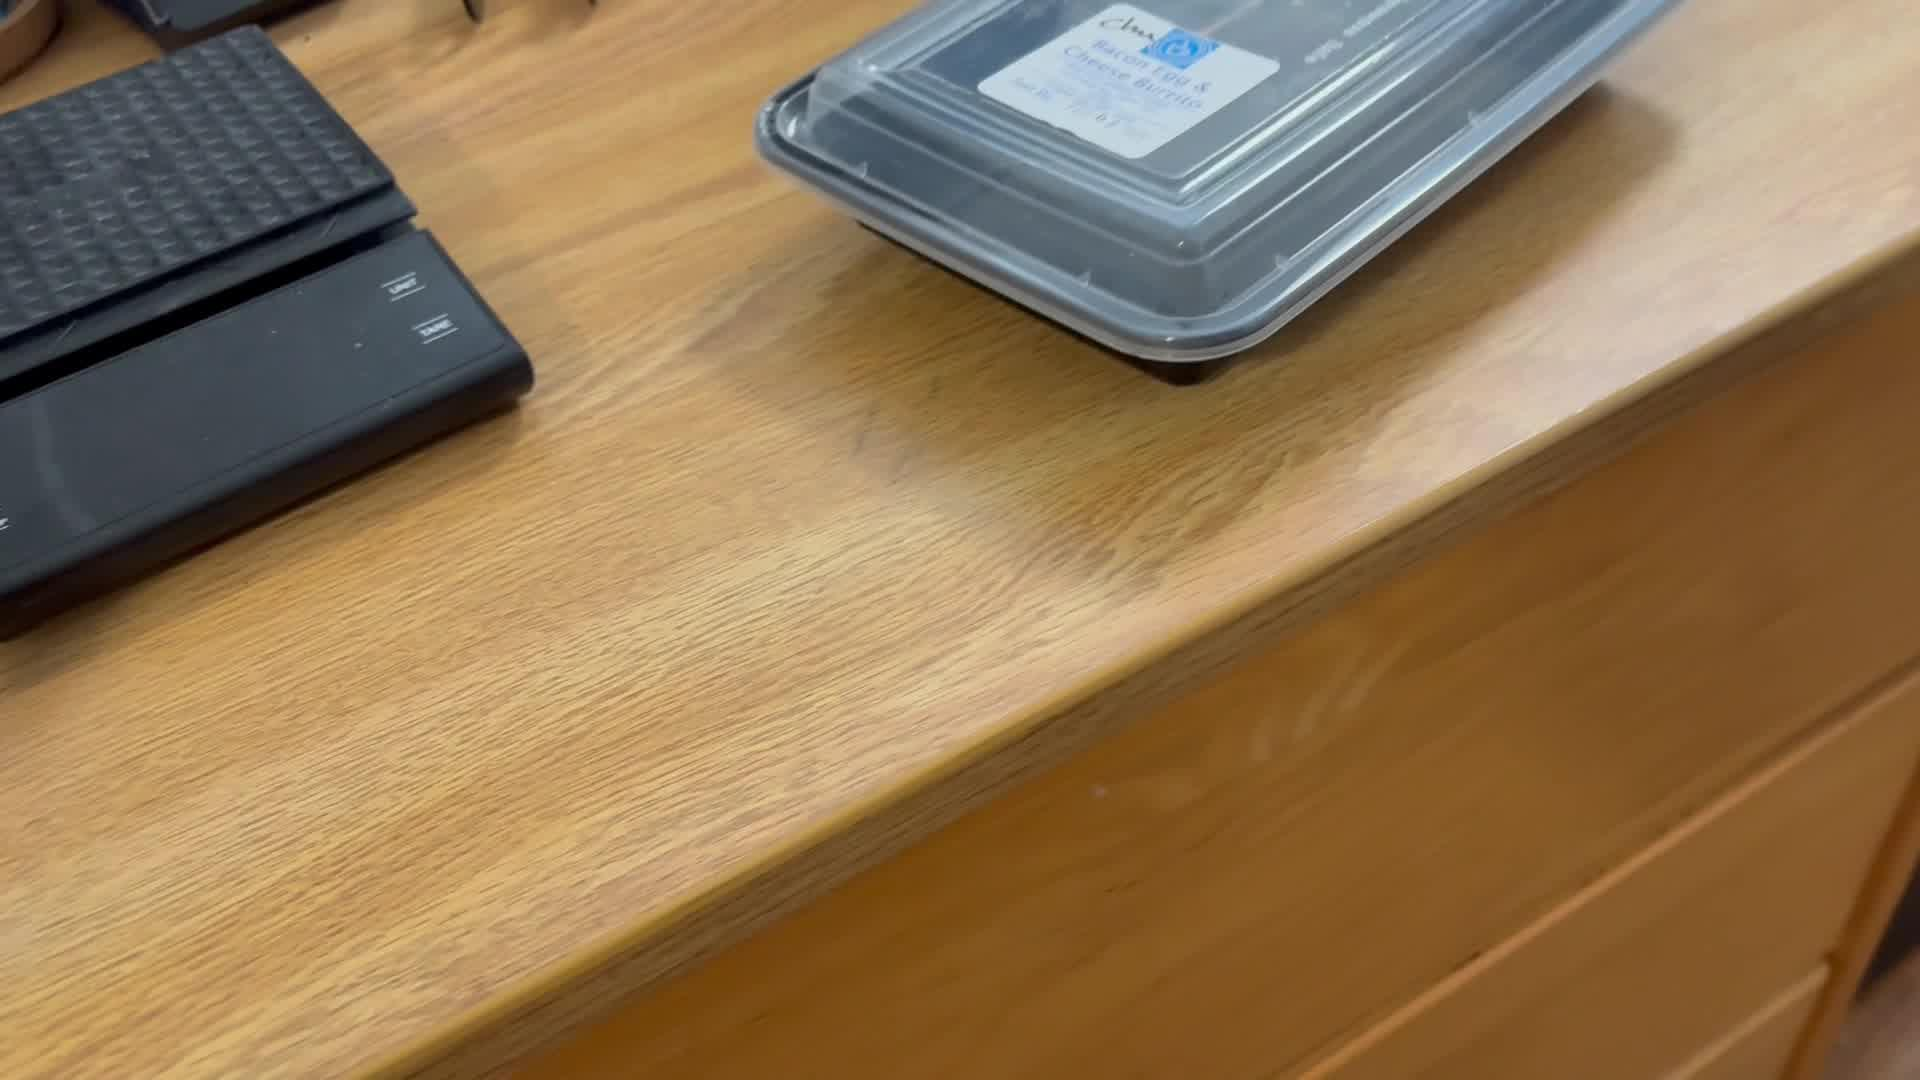lp_cup_lids: (745, 1, 1687, 396)
